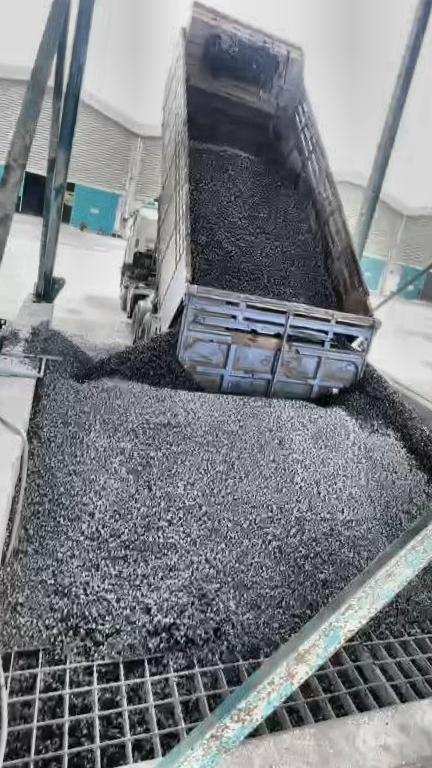gravel: (0, 309, 432, 659), (189, 143, 342, 306), (375, 511, 432, 634)
sand: (413, 360, 432, 443)
